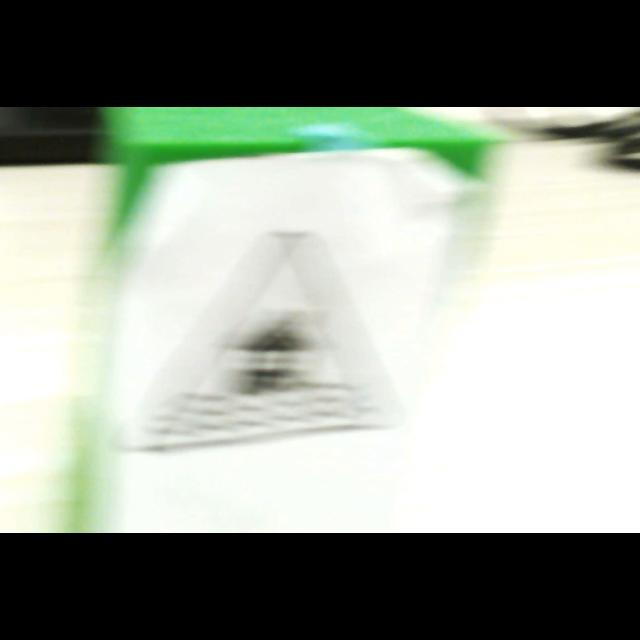Tsunami: (130, 231, 388, 450)
